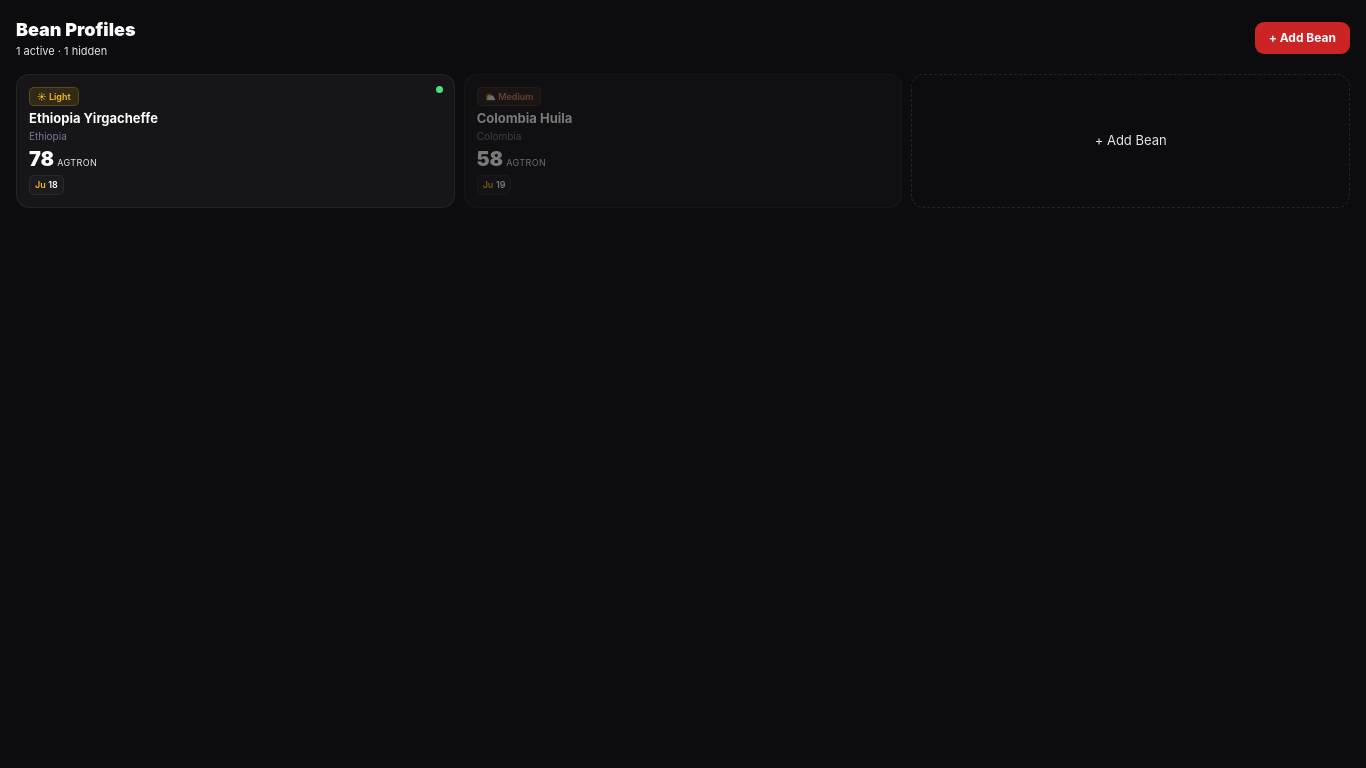
Test: BeanProfiles page › closes drawer when ✕ is clicked
Click the text "Colombia Huila".
click(531, 119)  # box [477,111,584,127]
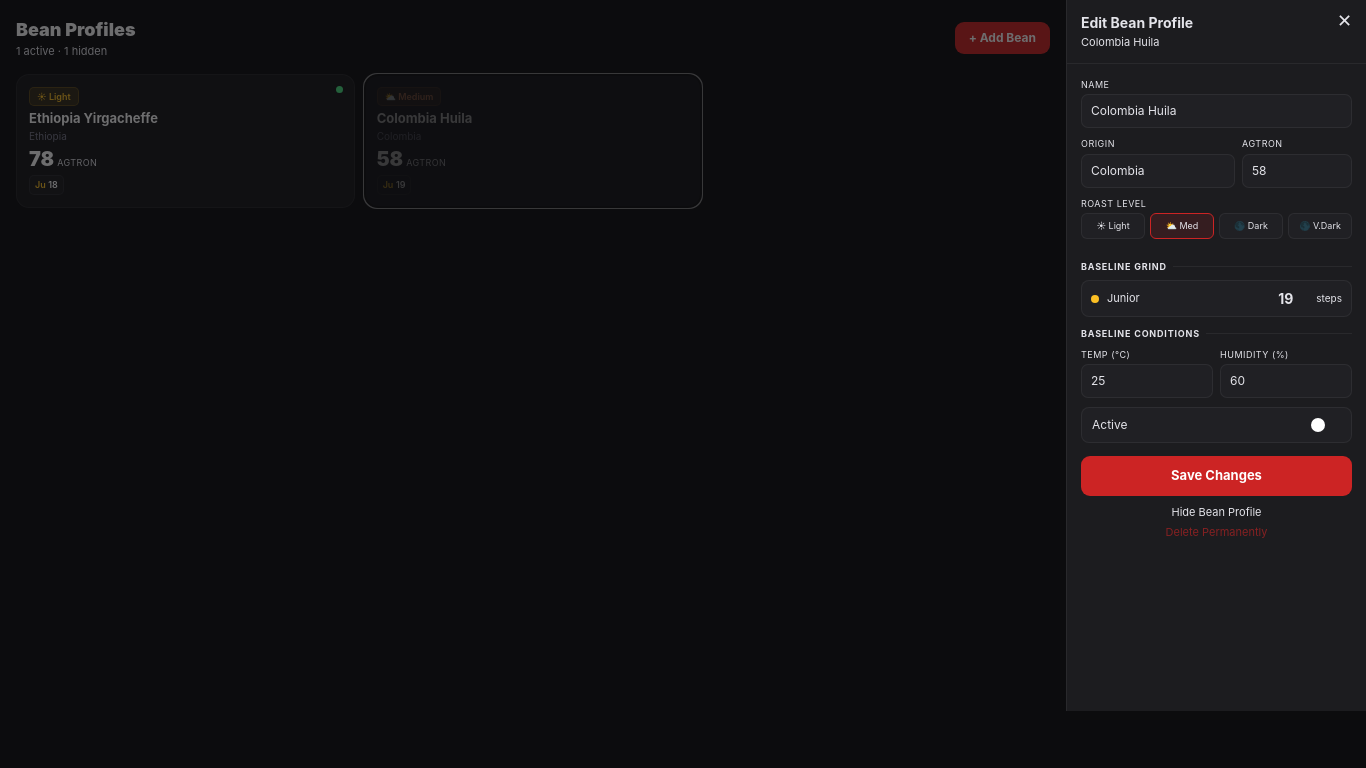
Click the button named "Close drawer".
click(1344, 21)  # box [1337,12,1352,30]
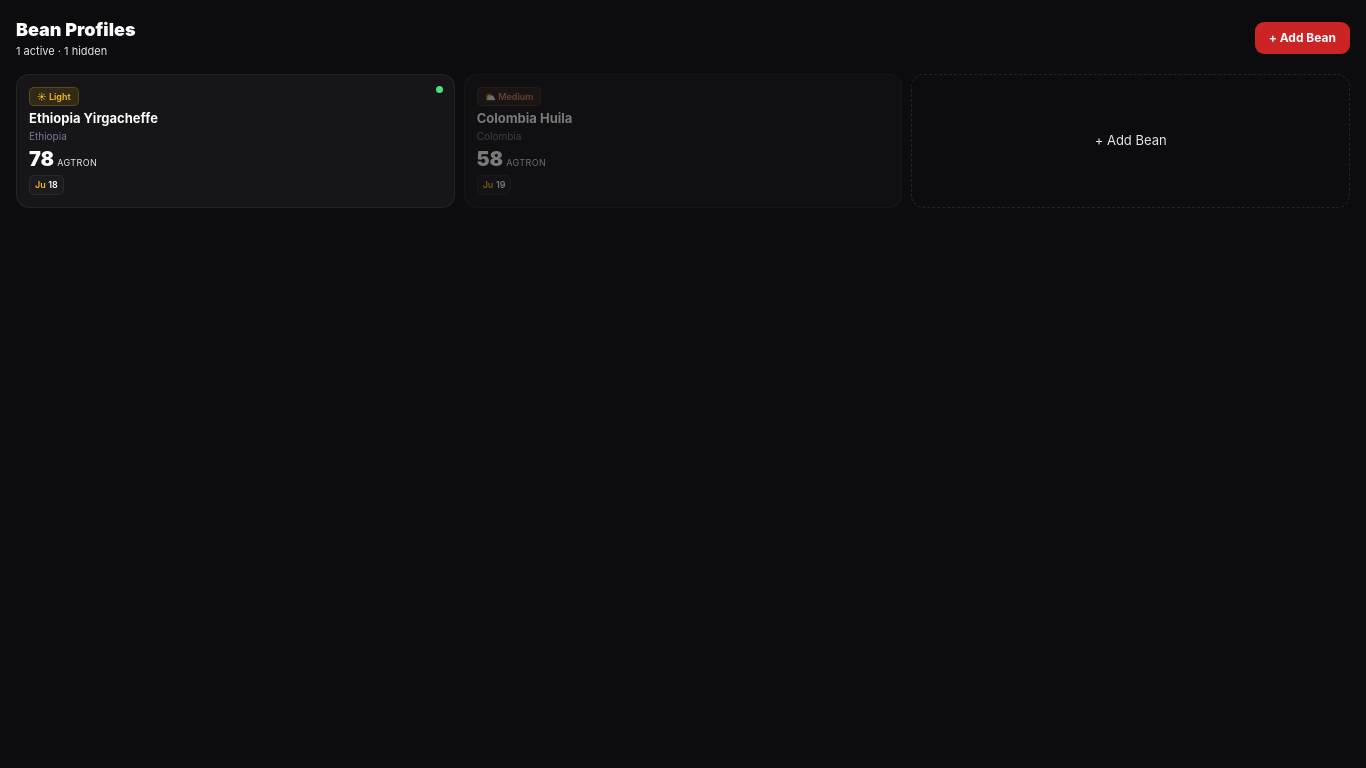
Expected: the text "Edit Bean Profile" is gone
